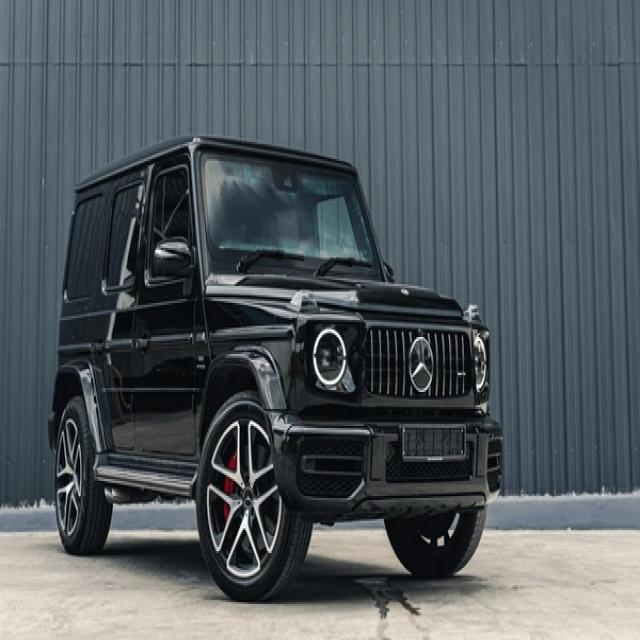mercedes: (406, 337, 436, 395)
